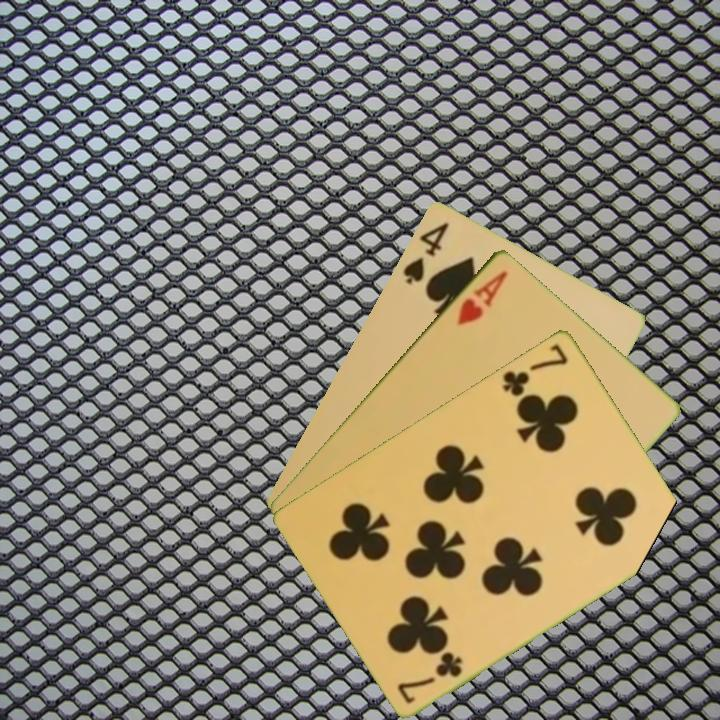4s: (399, 218, 452, 287)
7c: (498, 339, 571, 399), (394, 648, 466, 707)
Ah: (453, 266, 511, 329)
